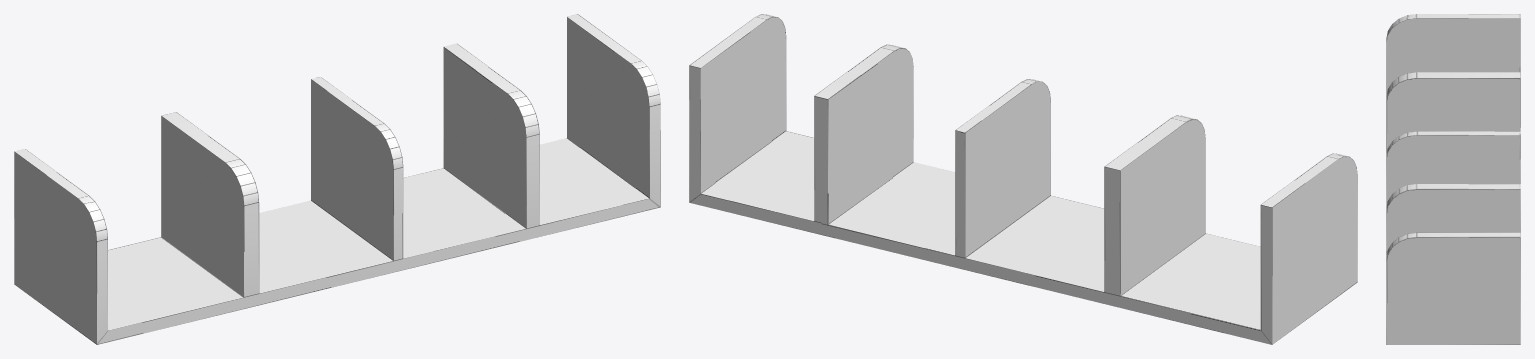
Rendered from 6悬空架子.fbx.
3 views of the same model, side by side, from view 1: azimuth 30°, elevation 25°; view 2: azimuth 150°, elevation 25°; view 3: azimuth 270°, elevation 25° (orthographic). The views are drawn at different scales.
Parts seen in each view (by area): view 1: 架子1; view 2: 架子1; view 3: 架子1.
Part boxes in pixels (left/top/right/bottom): 架子1: left=14, top=14, right=660, bottom=344; 架子1: left=689, top=14, right=1357, bottom=344; 架子1: left=1386, top=14, right=1520, bottom=344.
Size of the model in its own units: 588 by 132 by 149.
1 material, 1 textured.
